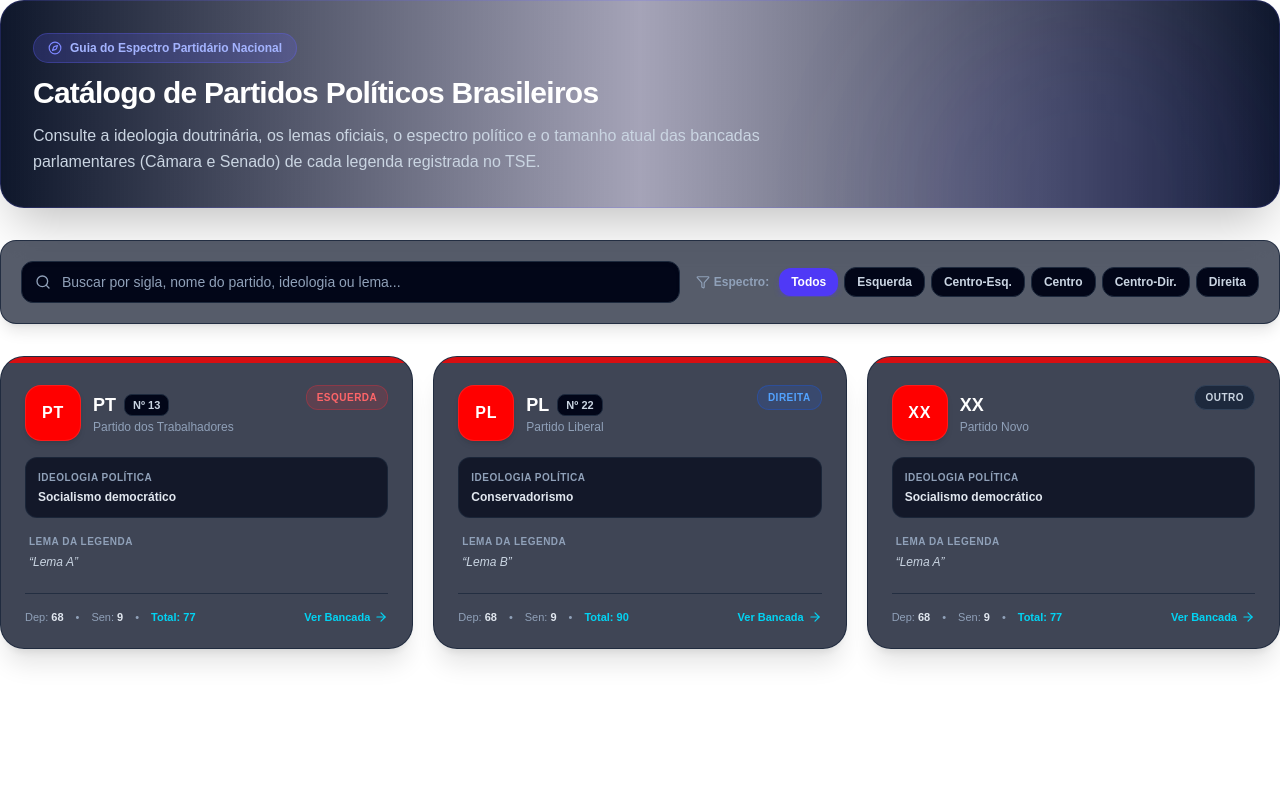
Test: PartiesPanel › mostra mensagem quando a busca não encontra nada
Expected: the text "Partido Liberal" is shown, [526,419,604,435]
Type "zzzz" into the field named "Buscar partido". click: x=350, y=282
box: [21,261,680,303]
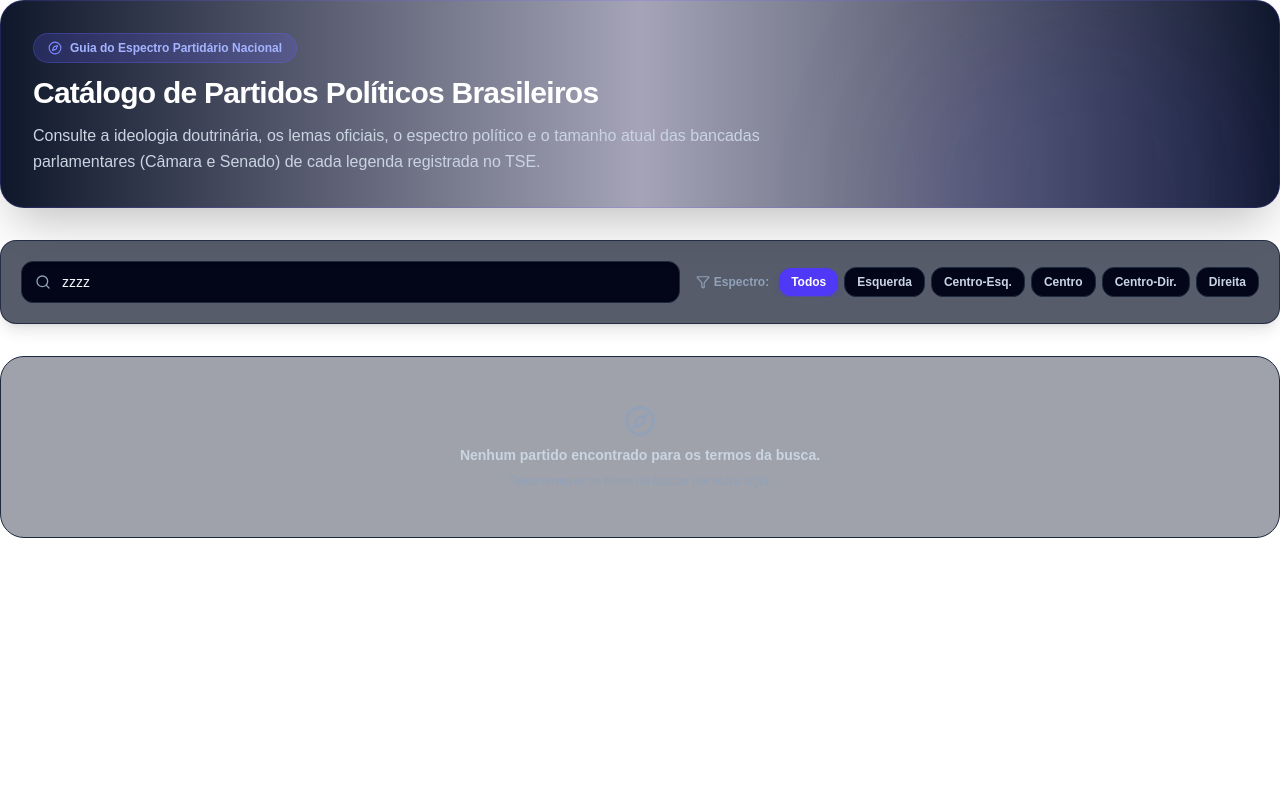
Expected: the text "Nenhum partido encontrado para os termos da busca." is shown, [460,447,820,463]
